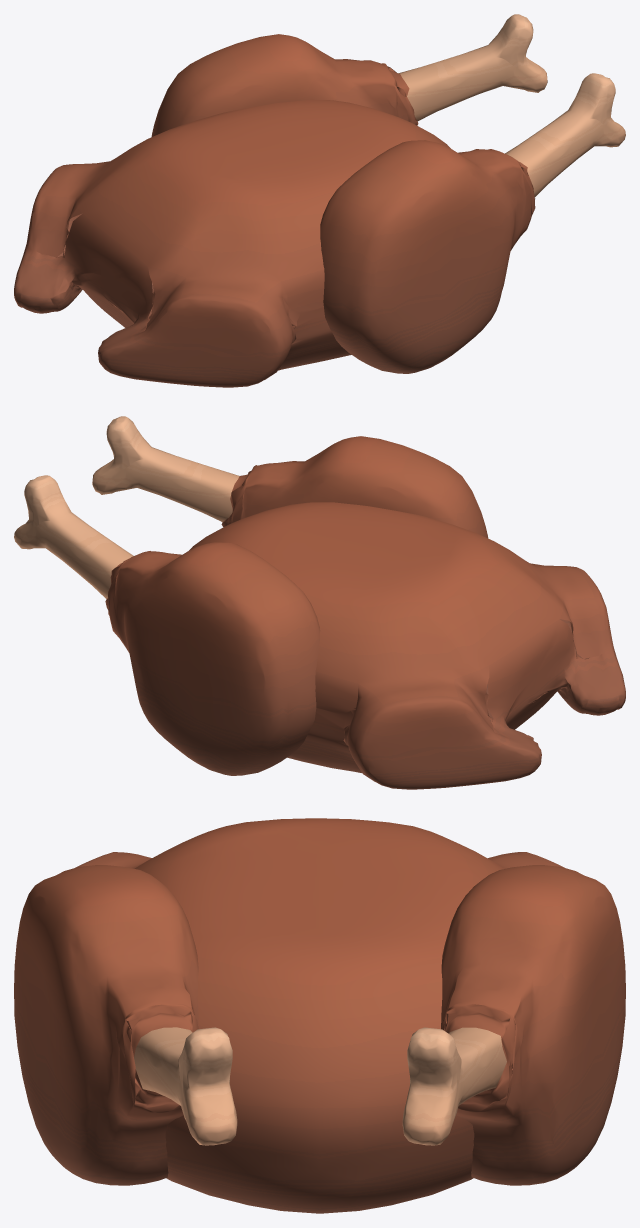
The picture shows the model from 3 angles, top to bottom: view 1: azimuth 30°, elevation 25°; view 2: azimuth 150°, elevation 25°; view 3: azimuth 270°, elevation 25°; orthographic projection. The views are drawn at different scales.
Bounding box in the file's own units: 0.9803 × 0.3758 × 0.7039.
1 material, 1 textured.
